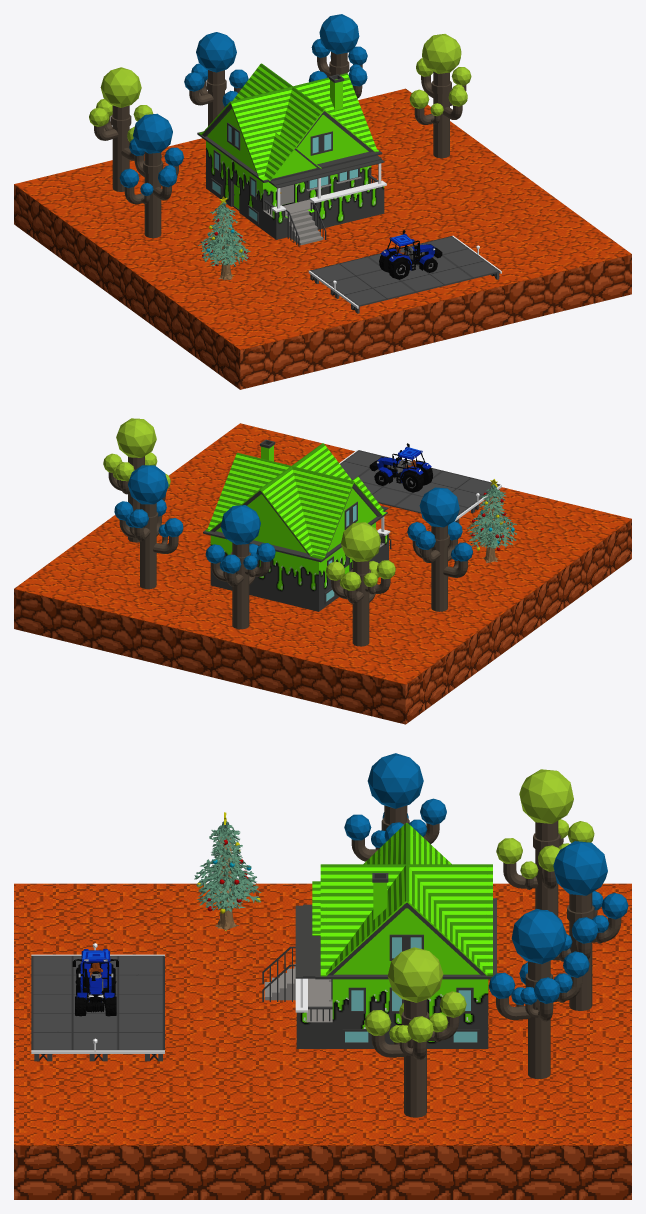
3 views of the same model, one above another, from view 1: azimuth 30°, elevation 25°; view 2: azimuth 150°, elevation 25°; view 3: azimuth 270°, elevation 25° (orthographic). The views are drawn at different scales.
Visible parts, largest first — view 1: Cube.001, Cube.754, OBJRANDOM_CHRISTMAS_TREE, VEHICLES_TRACTOR; view 2: Cube.001, Cube.754, OBJRANDOM_CHRISTMAS_TREE, VEHICLES_TRACTOR; view 3: Cube.001, Cube.754, OBJRANDOM_CHRISTMAS_TREE, VEHICLES_TRACTOR.
Part boxes in pixels (<box>): Cube.001: <box>14,14,631,389</box>; Cube.754: <box>197,63,386,246</box>; OBJRANDOM_CHRISTMAS_TREE: <box>198,196,250,280</box>; VEHICLES_TRACTOR: <box>379,230,442,279</box>; Cube.001: <box>14,418,631,724</box>; Cube.754: <box>203,439,391,611</box>; OBJRANDOM_CHRISTMAS_TREE: <box>466,479,516,563</box>; VEHICLES_TRACTOR: <box>369,443,432,492</box>; Cube.001: <box>14,753,631,1199</box>; Cube.754: <box>262,823,496,1048</box>; OBJRANDOM_CHRISTMAS_TREE: <box>194,812,261,930</box>; VEHICLES_TRACTOR: <box>72,949,118,1016</box>.
Size of the model in its own units: 4000 by 1672 by 4000.
Materials: 28 (5 with a texture image).
